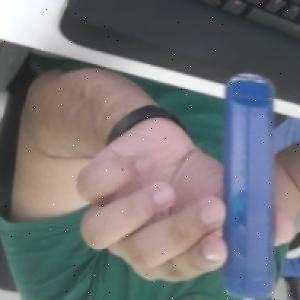Diamond-E-Ciggirate: (221, 70, 277, 300)
